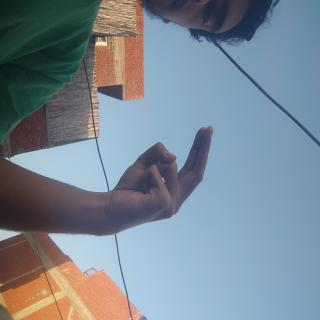ZAY: (91, 137, 186, 308)
